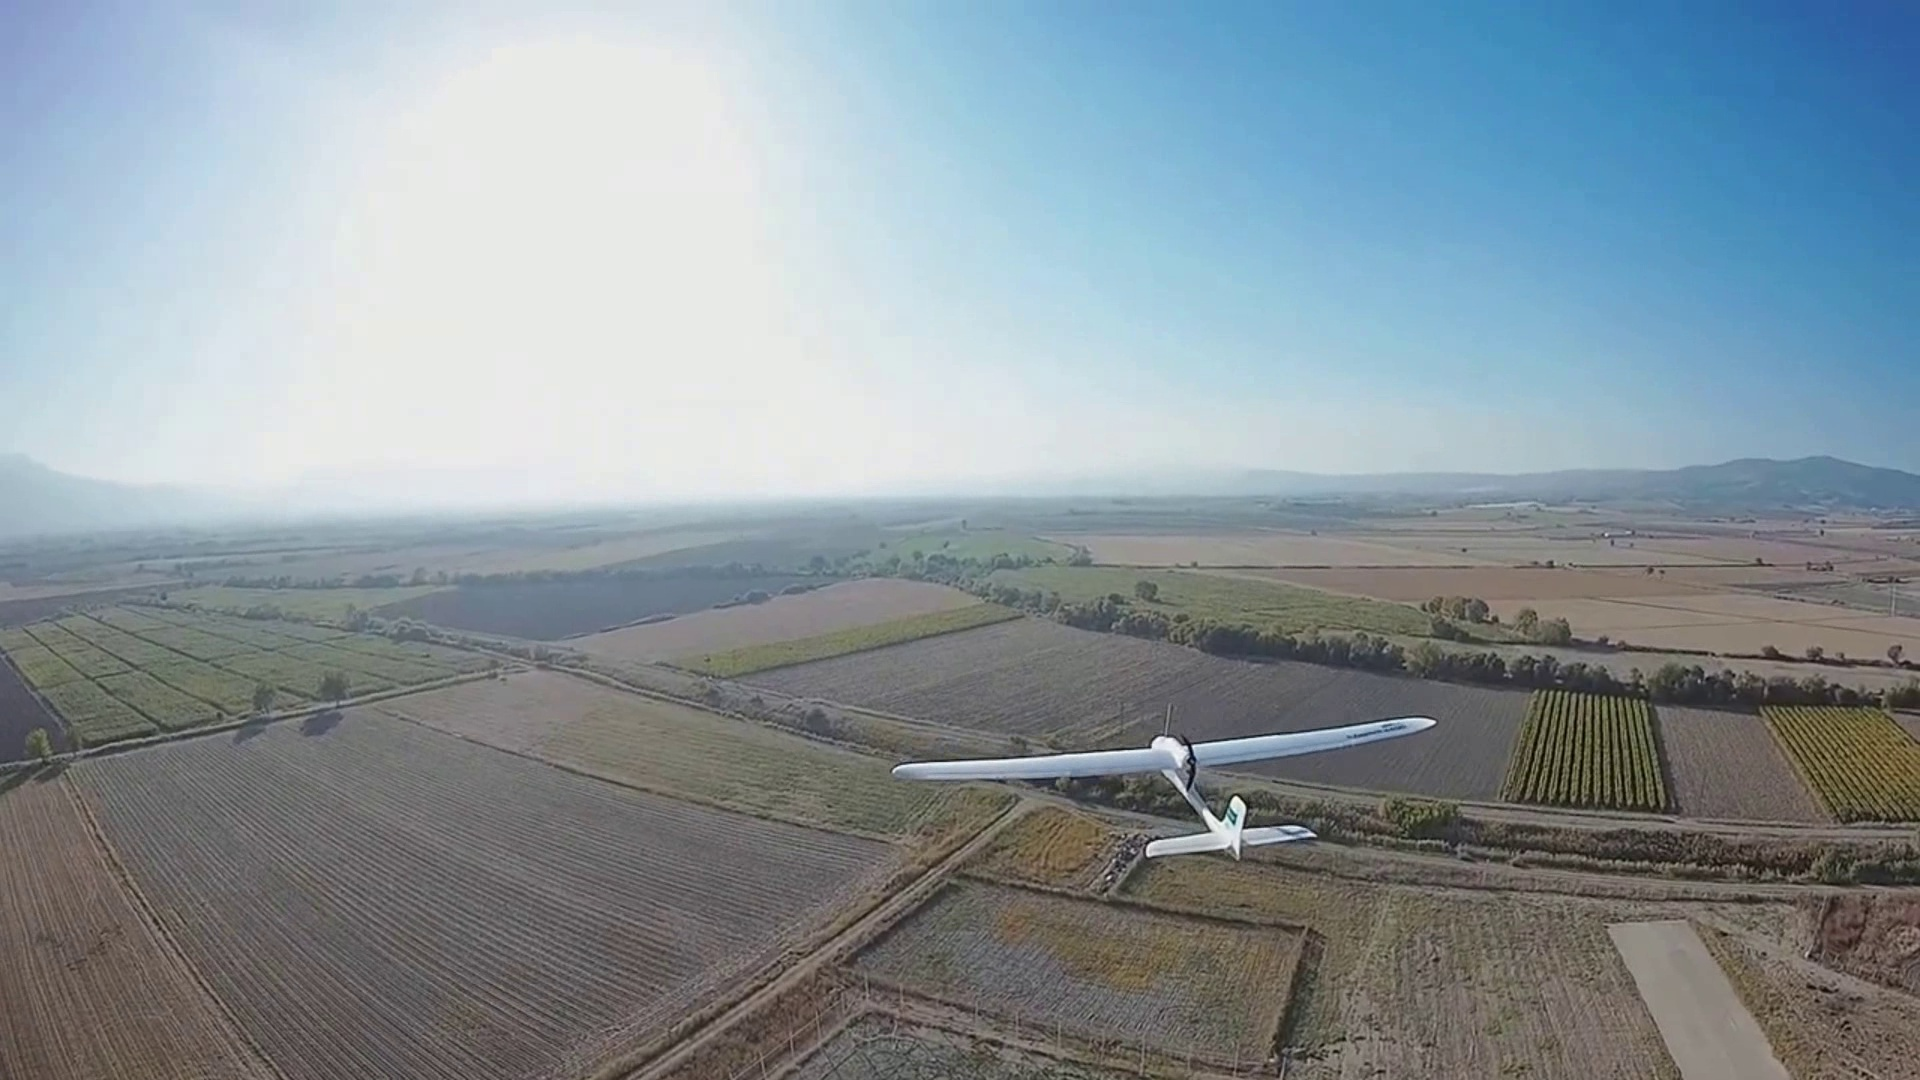airplane: (887, 716, 1437, 865)
